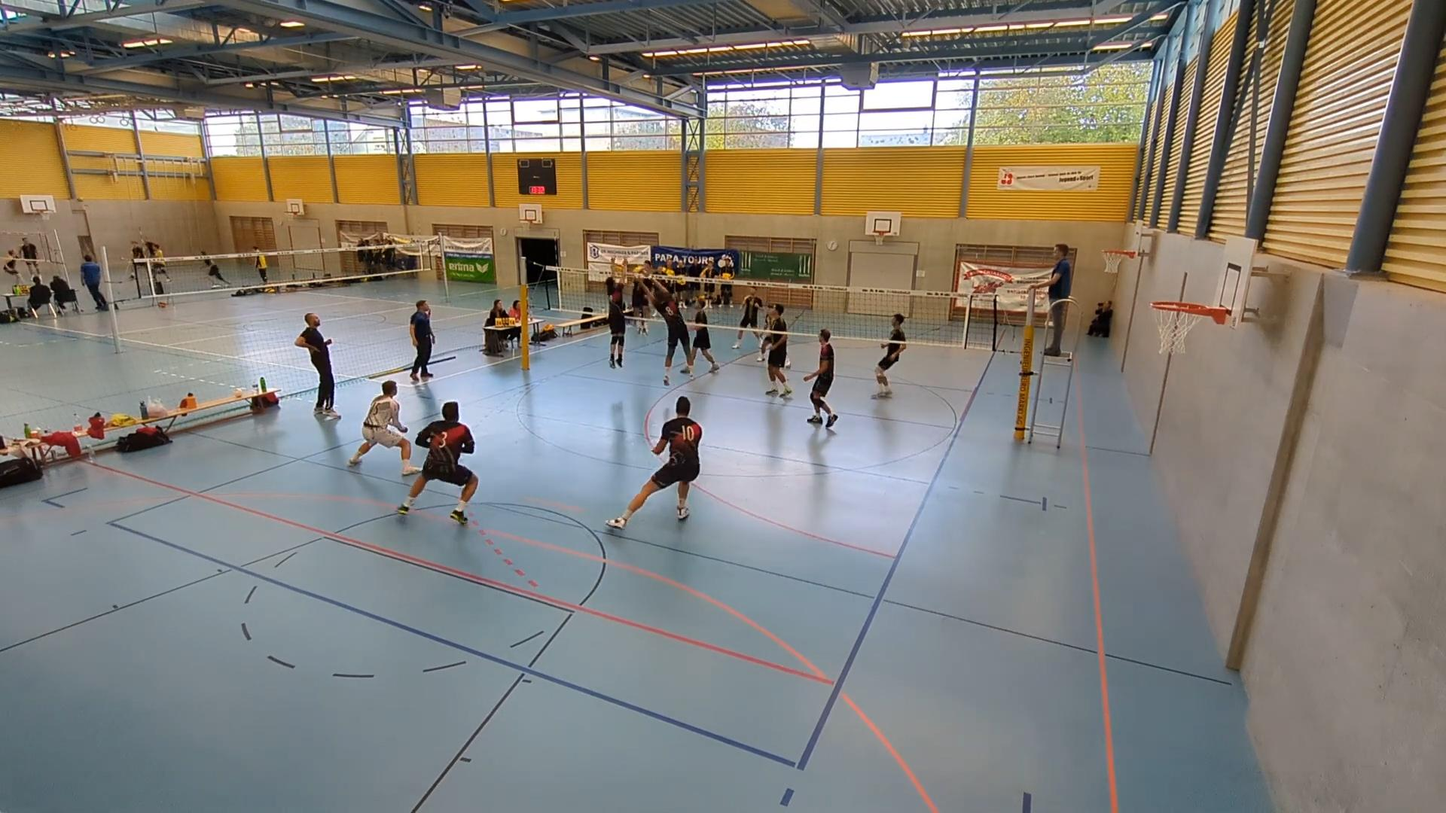attacco: (620, 252, 661, 341)
muro: (635, 271, 699, 388), (603, 253, 630, 371)
